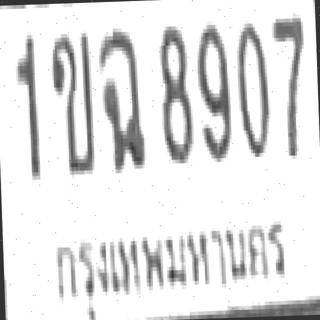A02: (48, 29, 94, 172)
A09: (96, 24, 144, 170)
N00: (233, 15, 270, 157)
N01: (12, 29, 38, 178)
N07: (269, 10, 306, 156)
N08: (156, 22, 192, 160)
N09: (194, 17, 230, 159)
P04: (45, 205, 296, 320)
